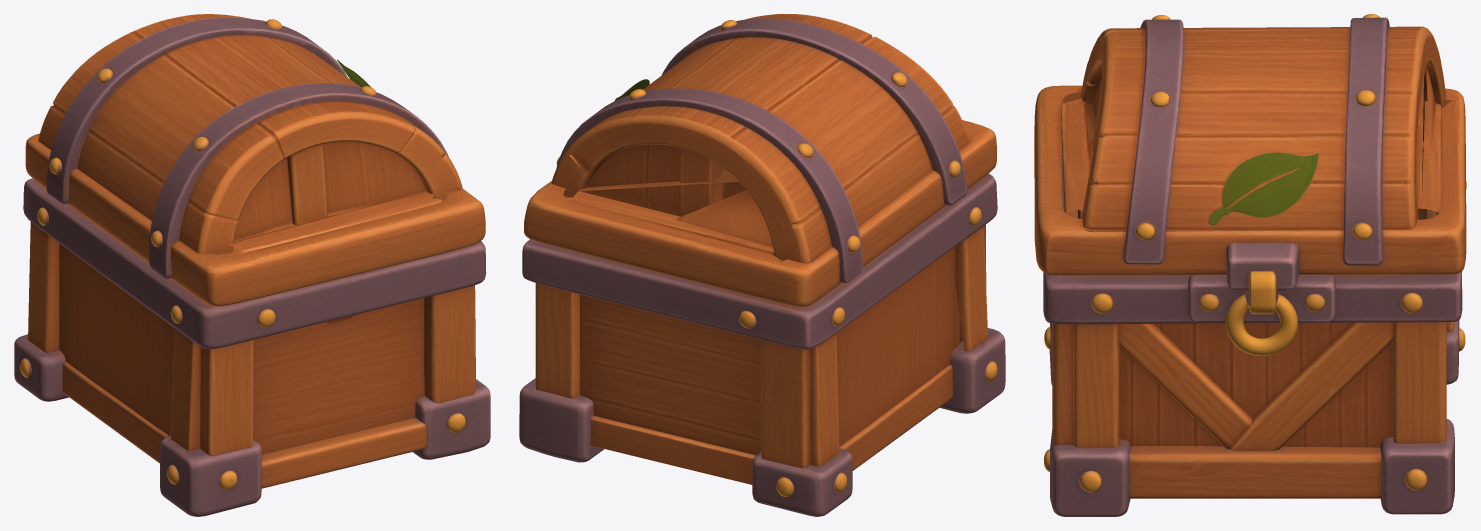
File: C10_storage.fbx
3 views of the same model, side by side, from view 1: azimuth 30°, elevation 25°; view 2: azimuth 150°, elevation 25°; view 3: azimuth 270°, elevation 25° (orthographic). The views are drawn at different scales.
Parts seen in each view (by area): view 1: tripo_node_43252e38; view 2: tripo_node_43252e38; view 3: tripo_node_43252e38.
Part boxes in pixels (bbox=[...]): tripo_node_43252e38: bbox=[14, 14, 490, 516]; tripo_node_43252e38: bbox=[519, 14, 1005, 516]; tripo_node_43252e38: bbox=[1034, 14, 1466, 516].
Bounding box in the file's own units: 0.9771 × 0.9995 × 0.9868.
